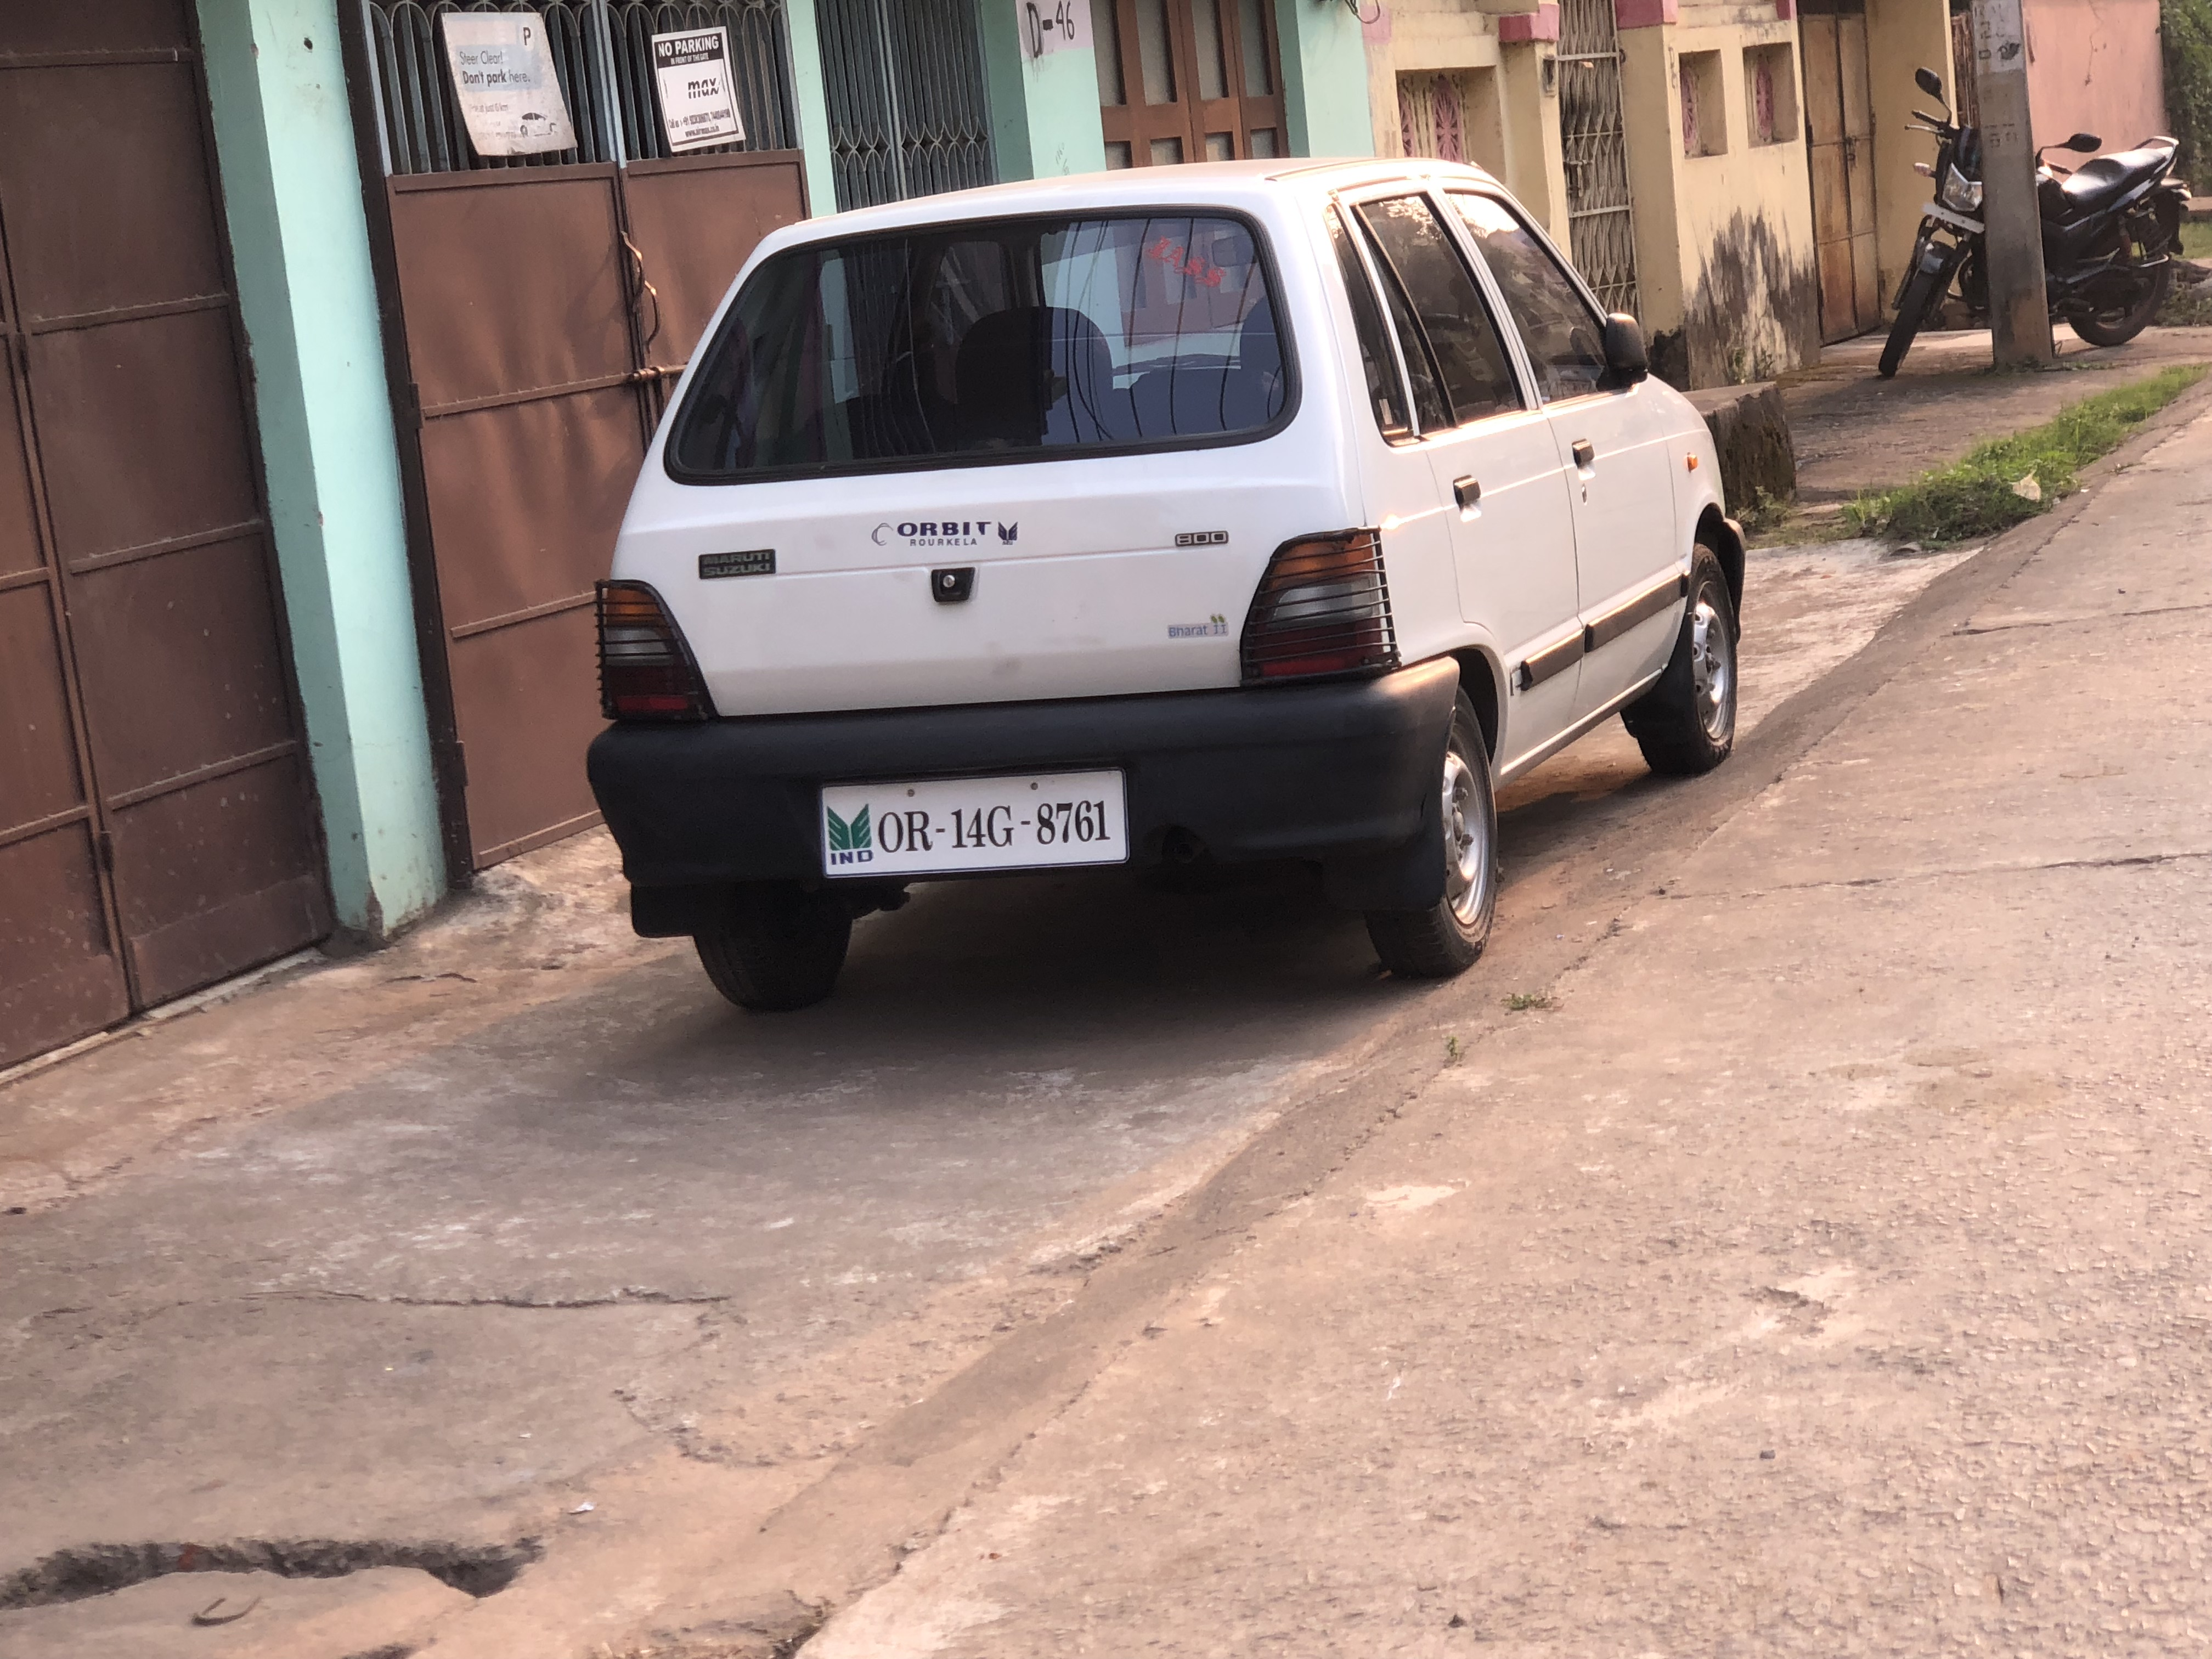licenseplate: (814, 772, 1135, 878)
